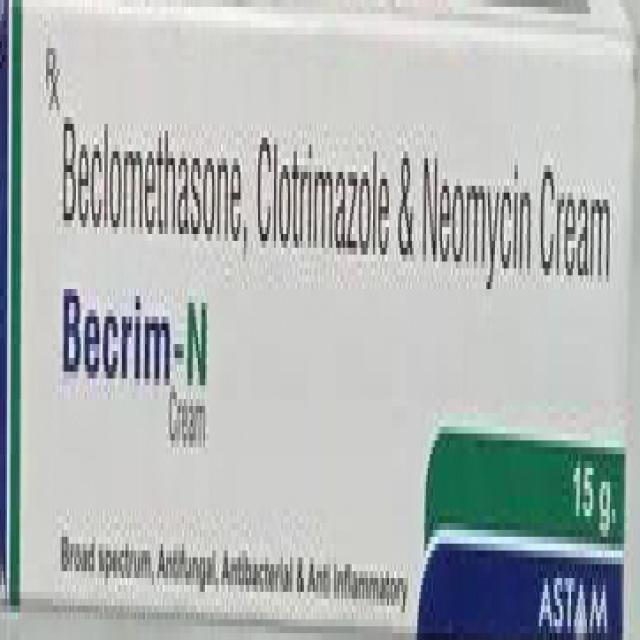drug-name: (53, 283, 217, 390)
